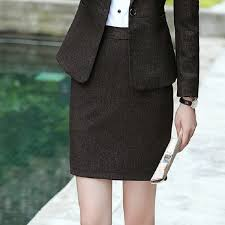F_tailored skirt: (49, 23, 174, 191)
